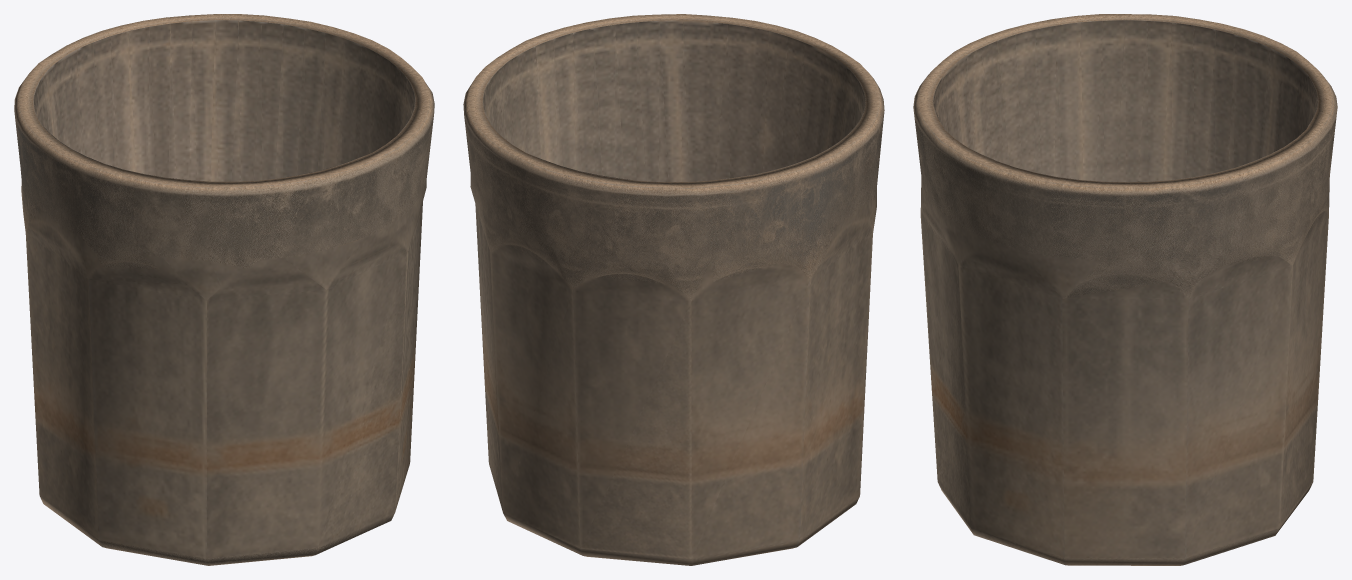
File: Meshy_AI_Forgotten_Glass_20261028_texture.fbx
3 views of the same model, side by side, from view 1: azimuth 30°, elevation 25°; view 2: azimuth 150°, elevation 25°; view 3: azimuth 270°, elevation 25° (orthographic).
Parts seen in each view (by area): view 1: Mesh_0; view 2: Mesh_0; view 3: Mesh_0.
Boxes of the visible parts, <box> form: Mesh_0: <box>14,14,434,565</box>; Mesh_0: <box>463,14,884,565</box>; Mesh_0: <box>913,14,1337,565</box>.
Size of the model in its own units: 92.14 by 95.07 by 92.82.
1 material, 1 textured.
